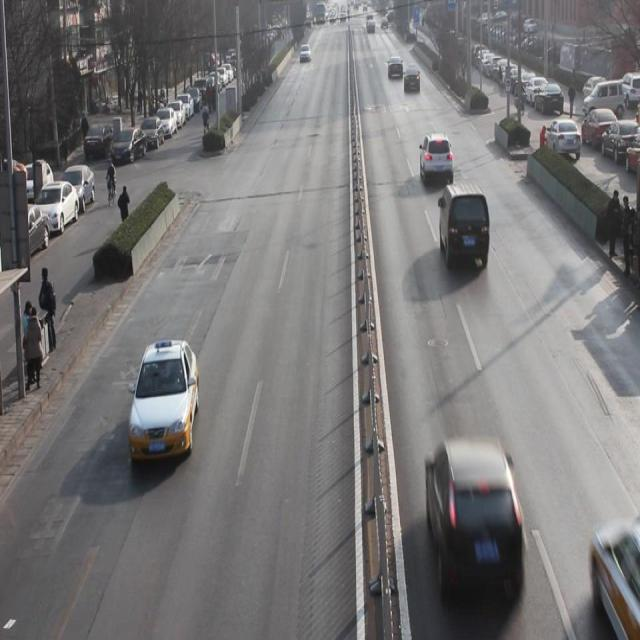car: (425, 441, 529, 589), (132, 338, 198, 466), (420, 131, 455, 185), (404, 67, 421, 95), (388, 54, 404, 80), (298, 40, 312, 66)
truck: (437, 184, 492, 273)
